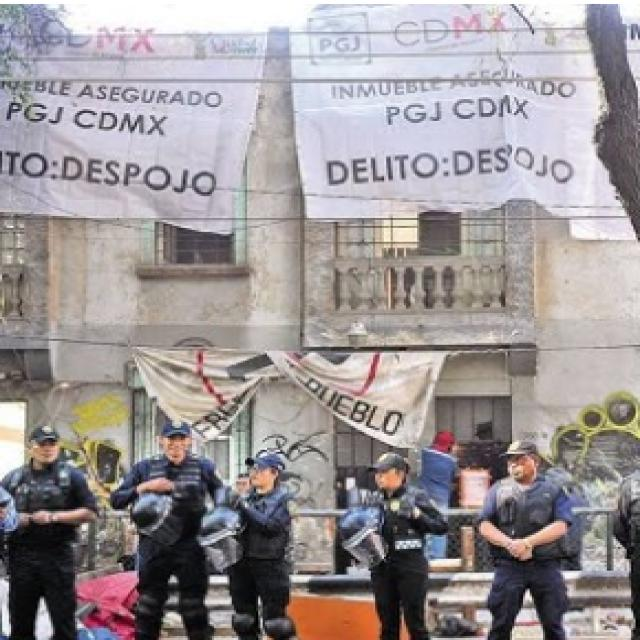stamps: (291, 5, 632, 236), (9, 28, 266, 229), (301, 7, 379, 70)
